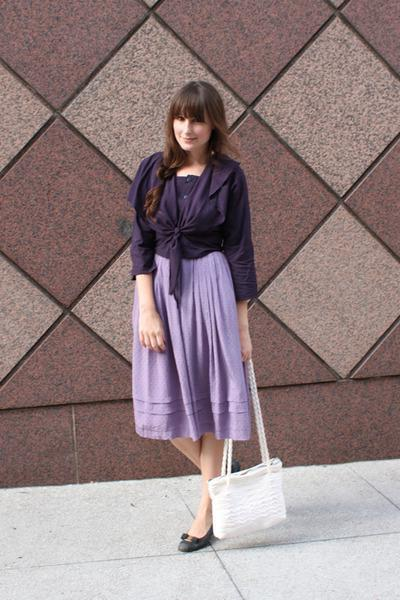jacket: (122, 148, 262, 298)
short sleeve shirt: (151, 163, 218, 263)
skirt: (129, 251, 252, 443)
